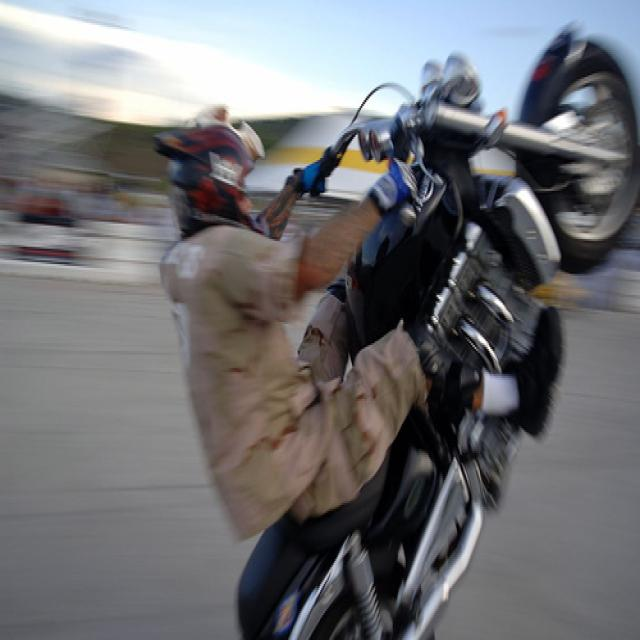motor: (233, 23, 640, 640)
